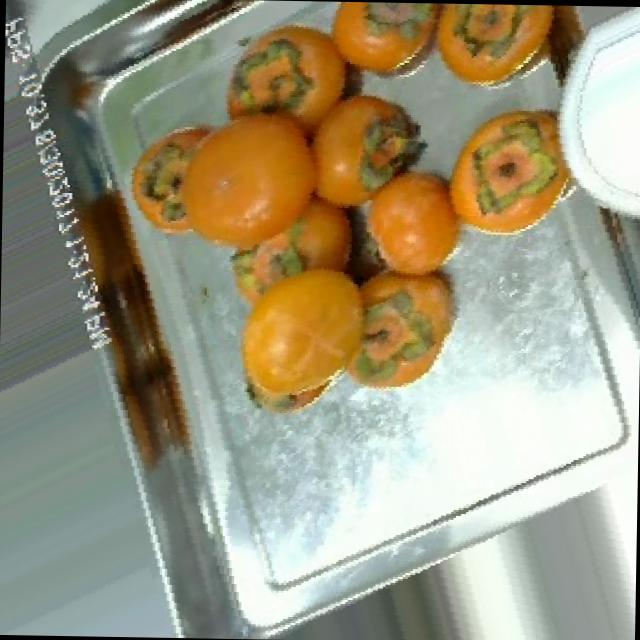Fruit: (214, 245, 403, 430), (430, 88, 602, 253), (307, 0, 470, 96)
